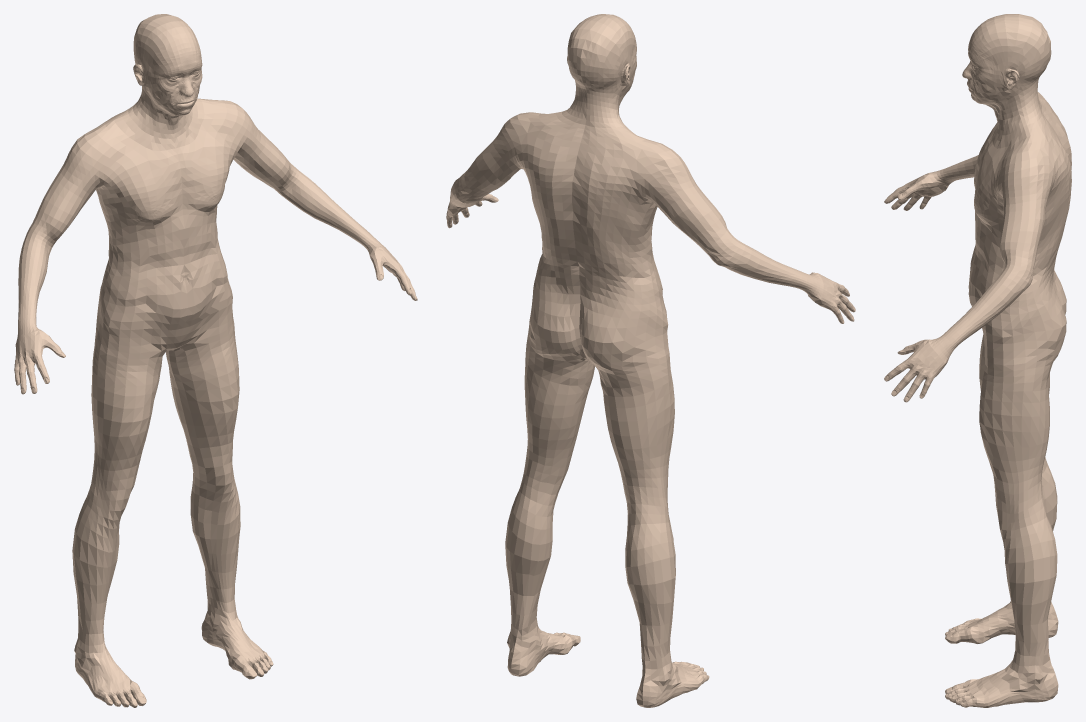
The model's file is male-older-average-high.glb.
The picture shows the model from 3 angles, left to right: view 1: azimuth 30°, elevation 25°; view 2: azimuth 150°, elevation 25°; view 3: azimuth 270°, elevation 25°; orthographic projection.
Visible parts, largest first — view 1: world; view 2: world; view 3: world.
Part boxes in pixels (box(x1,y1,x2,y2)): world: box(14, 14, 417, 707); world: box(446, 14, 855, 707); world: box(884, 14, 1071, 707).
Bounding box in the file's own units: 1.22 × 1.93 × 0.5032.
